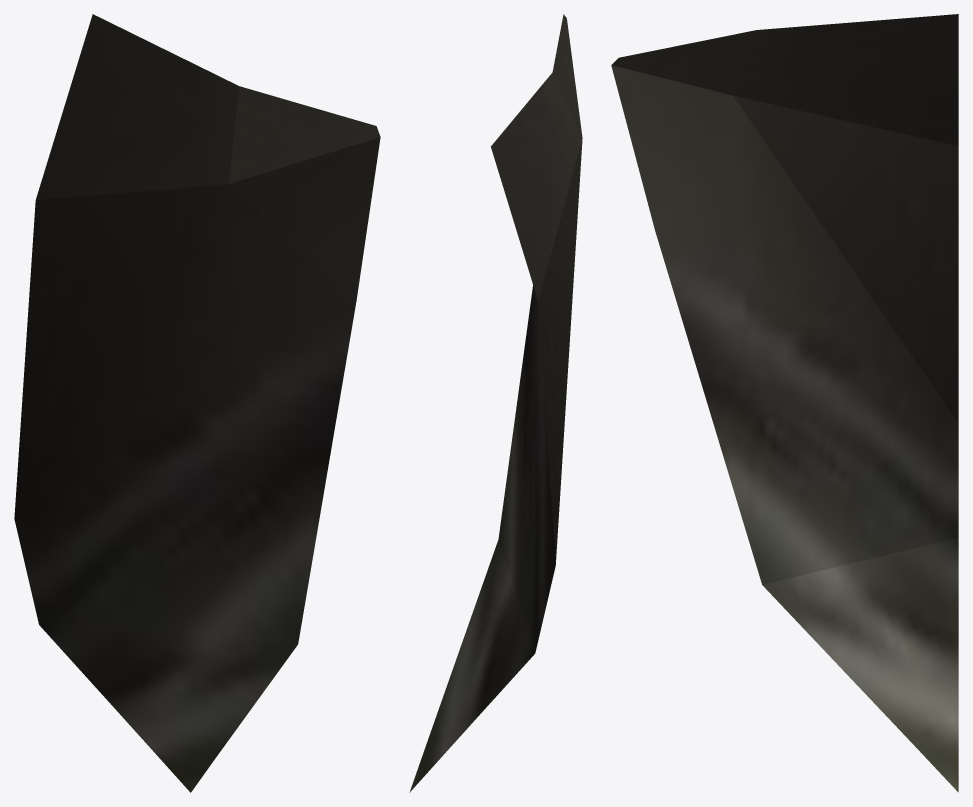
The picture shows the model from 3 angles, left to right: view 1: azimuth 30°, elevation 25°; view 2: azimuth 150°, elevation 25°; view 3: azimuth 270°, elevation 25°; orthographic projection. The views are drawn at different scales.
Size of the model in its own units: 0.1875 by 0.8153 by 0.3493.
Materials: 1 (1 with a texture image).
